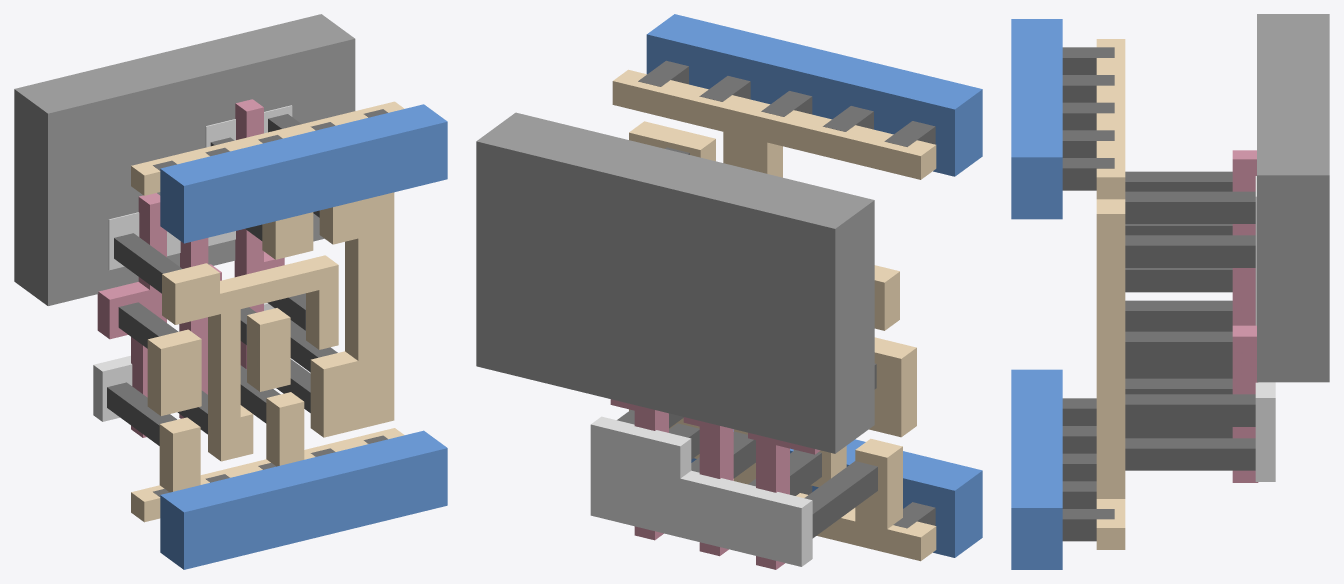
File: sky130_fd_sc_hd__lpflow_inputiso1p_1.gds.gltf
The picture shows the model from 3 angles, left to right: view 1: azimuth 30°, elevation 25°; view 2: azimuth 150°, elevation 25°; view 3: azimuth 270°, elevation 25°; orthographic projection. The views are drawn at different scales.
Parts seen in each view (by area): view 1: sky130_fd_sc_hd__lpflow_inputiso1p_1_li1, sky130_fd_sc_hd__lpflow_inputiso1p_1_nwell, sky130_fd_sc_hd__lpflow_inputiso1p_1_met1, sky130_fd_sc_hd__lpflow_inputiso1p_1_licon, sky130_fd_sc_hd__lpflow_inputiso1p_1_poly, sky130_fd_sc_hd__lpflow_inputiso1p_1_diff, sky130_fd_sc_hd__lpflow_inputiso1p_1_mcon; view 2: sky130_fd_sc_hd__lpflow_inputiso1p_1_nwell, sky130_fd_sc_hd__lpflow_inputiso1p_1_li1, sky130_fd_sc_hd__lpflow_inputiso1p_1_met1, sky130_fd_sc_hd__lpflow_inputiso1p_1_diff, sky130_fd_sc_hd__lpflow_inputiso1p_1_licon, sky130_fd_sc_hd__lpflow_inputiso1p_1_poly, sky130_fd_sc_hd__lpflow_inputiso1p_1_mcon; view 3: sky130_fd_sc_hd__lpflow_inputiso1p_1_licon, sky130_fd_sc_hd__lpflow_inputiso1p_1_nwell, sky130_fd_sc_hd__lpflow_inputiso1p_1_met1, sky130_fd_sc_hd__lpflow_inputiso1p_1_li1, sky130_fd_sc_hd__lpflow_inputiso1p_1_mcon, sky130_fd_sc_hd__lpflow_inputiso1p_1_poly, sky130_fd_sc_hd__lpflow_inputiso1p_1_diff.
Boxes of the visible parts, box(x1,y1,x2,y2) form: sky130_fd_sc_hd__lpflow_inputiso1p_1_li1: box(131, 101, 404, 522); sky130_fd_sc_hd__lpflow_inputiso1p_1_nwell: box(14, 14, 355, 305); sky130_fd_sc_hd__lpflow_inputiso1p_1_met1: box(160, 104, 447, 569); sky130_fd_sc_hd__lpflow_inputiso1p_1_licon: box(107, 114, 337, 445); sky130_fd_sc_hd__lpflow_inputiso1p_1_poly: box(97, 99, 284, 437); sky130_fd_sc_hd__lpflow_inputiso1p_1_diff: box(93, 105, 292, 421); sky130_fd_sc_hd__lpflow_inputiso1p_1_mcon: box(153, 109, 387, 496); sky130_fd_sc_hd__lpflow_inputiso1p_1_nwell: box(476, 112, 874, 453); sky130_fd_sc_hd__lpflow_inputiso1p_1_li1: box(612, 69, 936, 561); sky130_fd_sc_hd__lpflow_inputiso1p_1_met1: box(646, 14, 982, 557); sky130_fd_sc_hd__lpflow_inputiso1p_1_diff: box(590, 416, 812, 566); sky130_fd_sc_hd__lpflow_inputiso1p_1_licon: box(617, 147, 877, 538); sky130_fd_sc_hd__lpflow_inputiso1p_1_poly: box(610, 399, 820, 569); sky130_fd_sc_hd__lpflow_inputiso1p_1_mcon: box(638, 60, 935, 528); sky130_fd_sc_hd__lpflow_inputiso1p_1_licon: box(1125, 171, 1255, 470); sky130_fd_sc_hd__lpflow_inputiso1p_1_nwell: box(1257, 14, 1329, 382); sky130_fd_sc_hd__lpflow_inputiso1p_1_met1: box(1011, 19, 1062, 569); sky130_fd_sc_hd__lpflow_inputiso1p_1_li1: box(1096, 39, 1125, 549); sky130_fd_sc_hd__lpflow_inputiso1p_1_mcon: box(1062, 47, 1114, 541); sky130_fd_sc_hd__lpflow_inputiso1p_1_poly: box(1232, 150, 1258, 482); sky130_fd_sc_hd__lpflow_inputiso1p_1_diff: box(1255, 176, 1275, 481).
Size of the model in its own units: 2.68 by 3.2 by 2.24.
